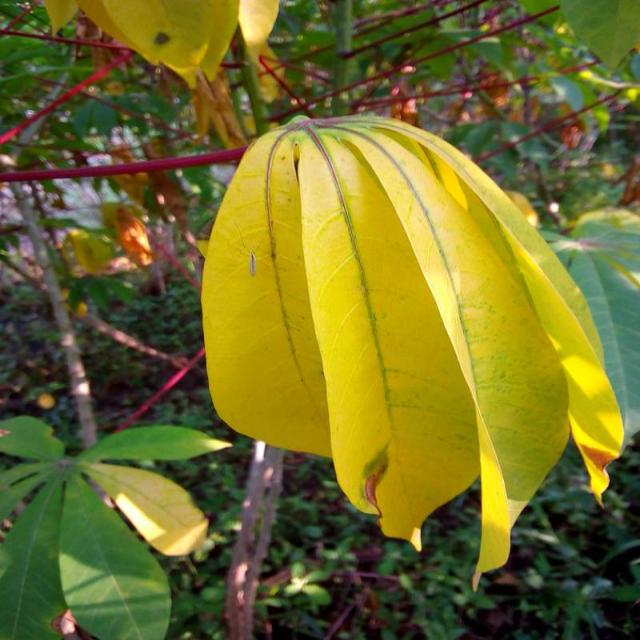cassava leaf: (197, 111, 626, 589)
